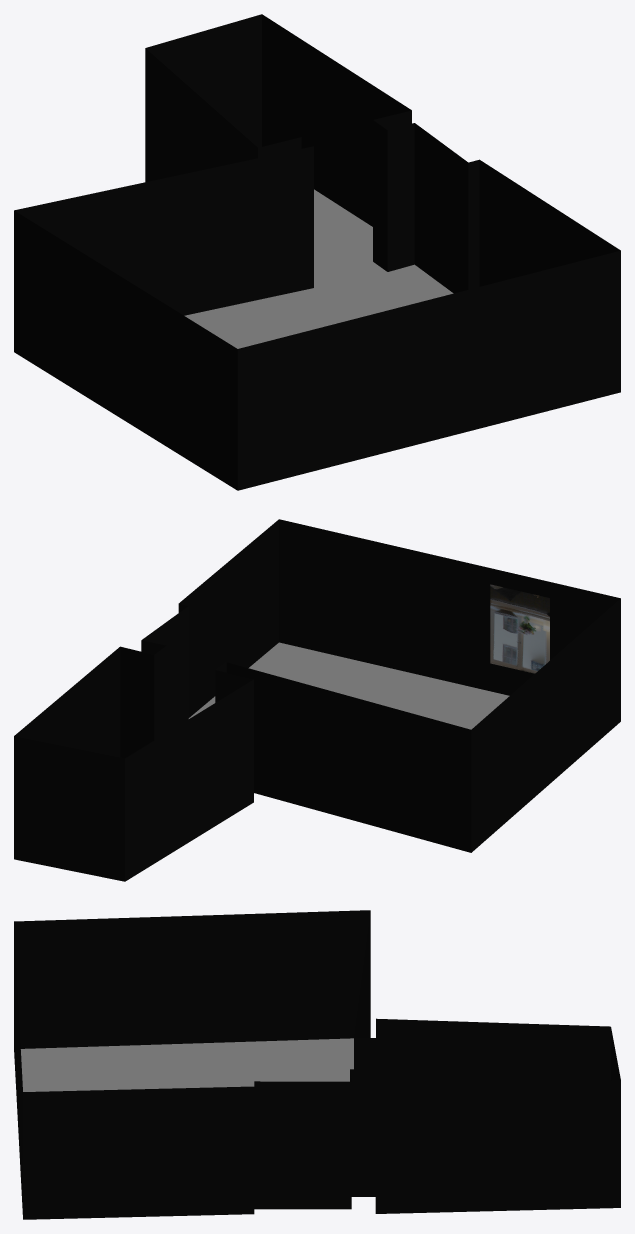
3 views of the same model, one above another, from view 1: azimuth 30°, elevation 25°; view 2: azimuth 150°, elevation 25°; view 3: azimuth 270°, elevation 25° (orthographic). The views are drawn at different scales.
Visible parts, largest first — view 1: wall_node_13, wall_node_14, wall_node_1, wall_node_6, wall_node_12, wall_node_4, wall_node_5, wall_node_10, floor_node_12, wall_node_9, floor_node_7, wall_node_8 (+6 smaller); view 2: wall_node_13, wall_node_1, wall_node_14, wall_node_4, wall_node_5, wall_node_12, floor_node_10, wall_node_6, patch_node_1, wall_node_7, wall_node_10, wall_node_8 (+1 smaller); view 3: wall_node_14, wall_node_6, wall_node_12, wall_node_4, wall_node_10, floor_node_12, wall_node_8, wall_node_13, floor_node_7, wall_node_1, floor_node_10, wall_node_2.
Part boxes in pixels (bbox=[...]): wall_node_13: bbox=[237, 250, 620, 490]; wall_node_14: bbox=[14, 210, 237, 490]; wall_node_1: bbox=[14, 146, 313, 315]; wall_node_6: bbox=[262, 14, 411, 226]; wall_node_12: bbox=[479, 160, 620, 286]; wall_node_4: bbox=[145, 48, 257, 182]; wall_node_5: bbox=[145, 14, 261, 147]; wall_node_10: bbox=[414, 123, 468, 293]; floor_node_12: bbox=[184, 288, 313, 348]; wall_node_9: bbox=[387, 123, 414, 271]; floor_node_7: bbox=[297, 288, 427, 333]; wall_node_8: bbox=[373, 120, 387, 271]; wall_node_13: bbox=[279, 519, 620, 695]; wall_node_1: bbox=[226, 662, 471, 852]; wall_node_14: bbox=[471, 598, 620, 852]; wall_node_4: bbox=[125, 679, 253, 881]; wall_node_5: bbox=[14, 736, 124, 881]; wall_node_12: bbox=[179, 519, 278, 717]; floor_node_10: bbox=[252, 642, 509, 724]; wall_node_6: bbox=[14, 647, 120, 757]; patch_node_1: bbox=[490, 584, 549, 673]; wall_node_7: bbox=[120, 646, 154, 758]; wall_node_10: bbox=[142, 606, 188, 732]; wall_node_8: bbox=[154, 646, 166, 740]; wall_node_14: bbox=[14, 910, 370, 1048]; wall_node_6: bbox=[375, 1080, 620, 1213]; wall_node_12: bbox=[23, 1086, 254, 1219]; wall_node_4: bbox=[376, 1018, 610, 1086]; wall_node_10: bbox=[254, 1081, 351, 1209]; floor_node_12: bbox=[20, 1038, 353, 1089]; wall_node_8: bbox=[350, 1069, 375, 1196]; wall_node_13: bbox=[14, 925, 22, 1214]; floor_node_7: bbox=[21, 1051, 130, 1090]; wall_node_1: bbox=[354, 911, 370, 1037]; floor_node_10: bbox=[21, 1054, 76, 1091]; wall_node_2: bbox=[354, 1038, 376, 1086].
Bounding box in the file's own units: 611 × 862 × 200.
27 materials, 1 textured.
